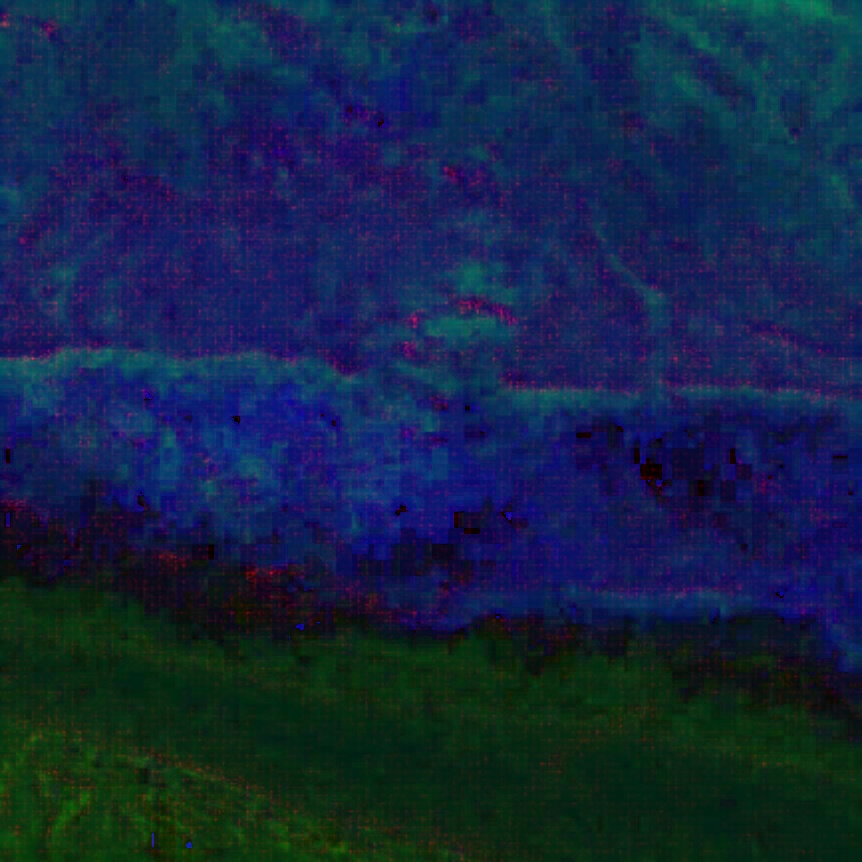rip_current: (342, 59, 569, 506)
